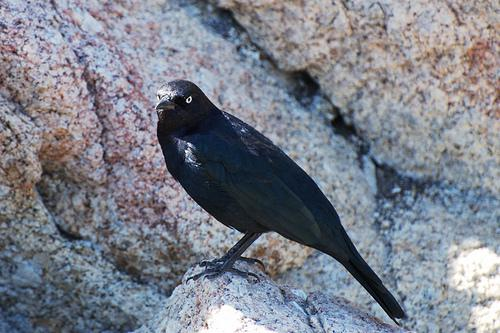009.Brewer_Blackbird: (154, 79, 408, 328)
